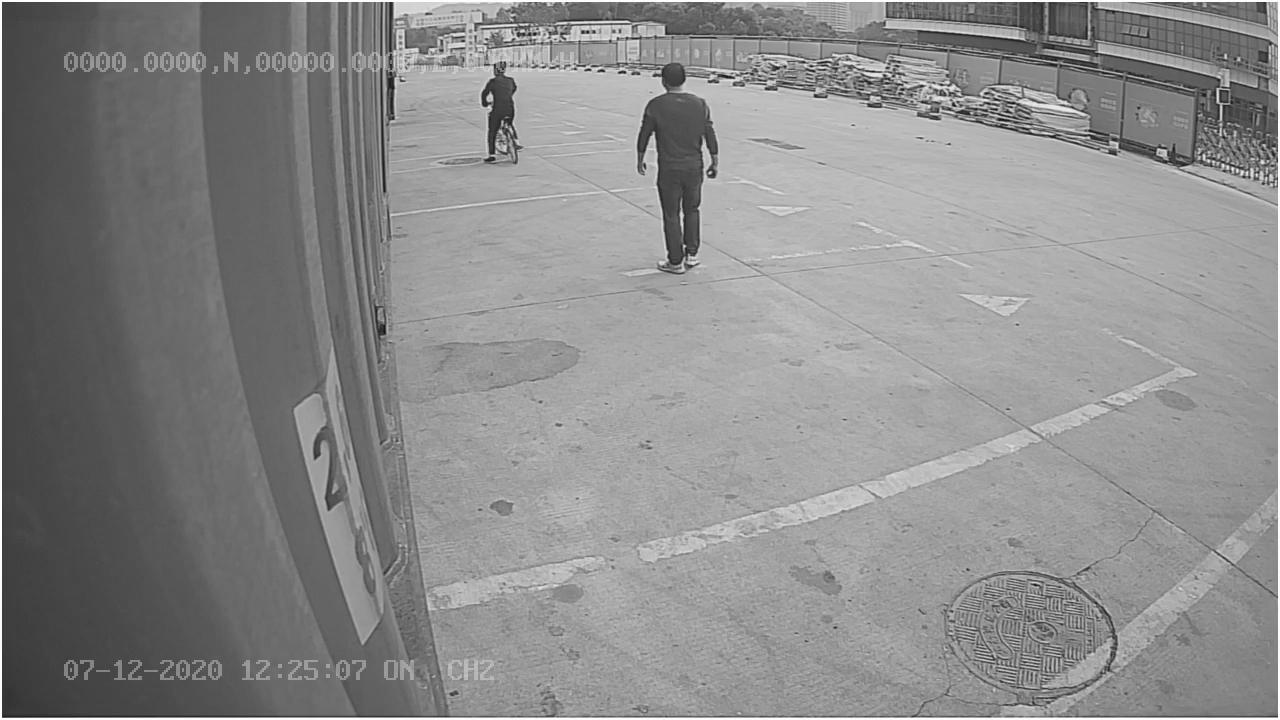person: (631, 60, 722, 280)
